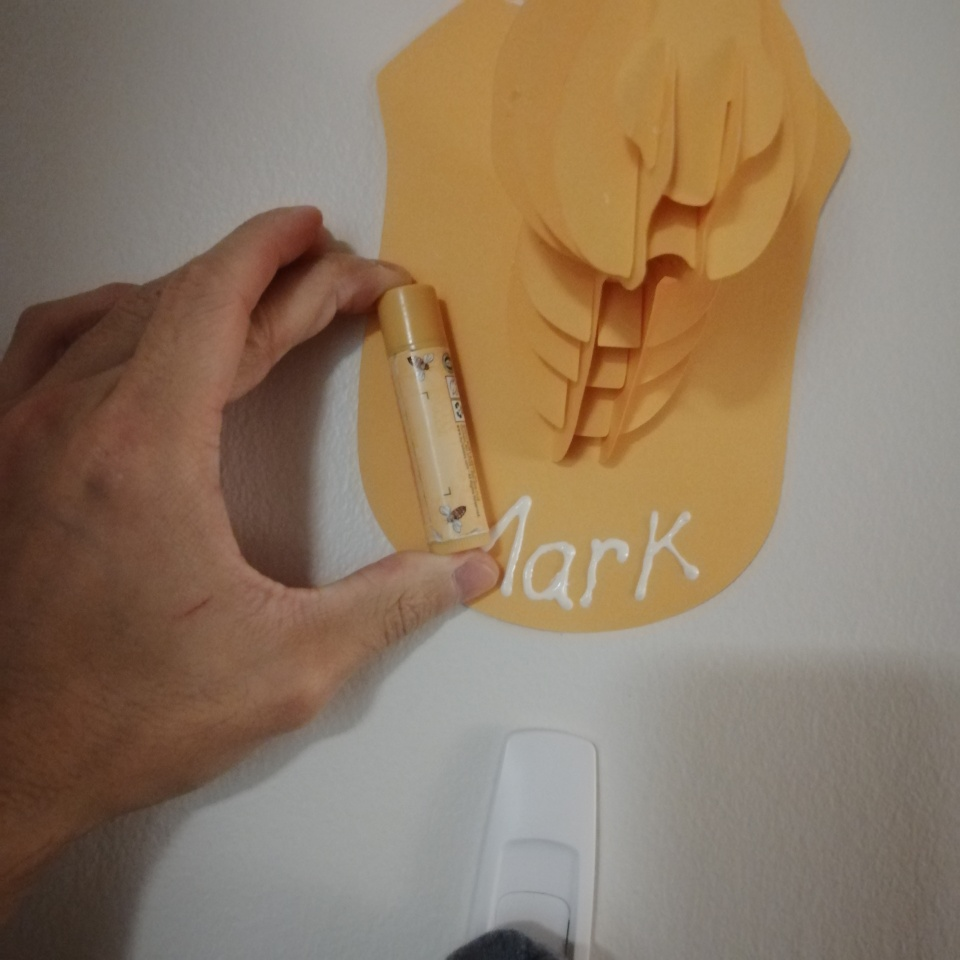chapstick: (373, 284, 493, 555)
